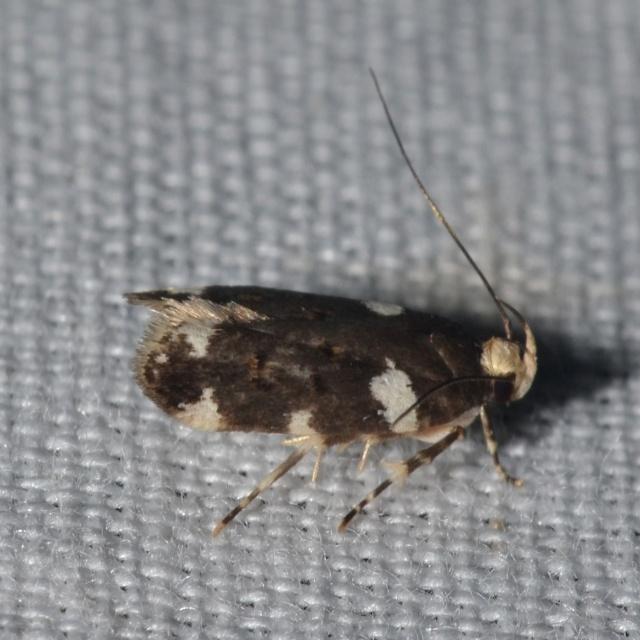Moths and butterflies: (121, 66, 540, 536)
